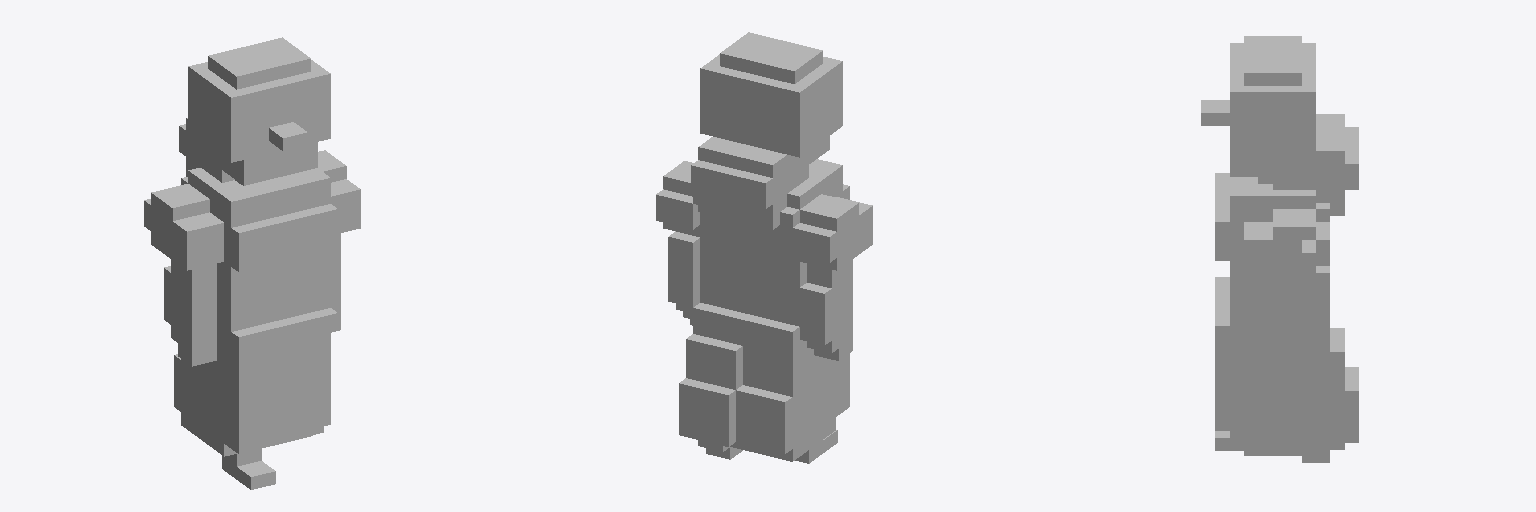
File: monk-13.obj
3 views of the same model, side by side, from view 1: azimuth 30°, elevation 25°; view 2: azimuth 150°, elevation 25°; view 3: azimuth 270°, elevation 25° (orthographic).
Visible parts, largest first — view 1: monk 13; view 2: monk 13; view 3: monk 13.
Boxes of the visible parts, x1,y1,x2,y2 form: monk 13: [144, 37, 360, 489]; monk 13: [656, 32, 872, 463]; monk 13: [1201, 36, 1358, 462].
Size of the model in its own units: 0.7 by 1.55 by 0.55.